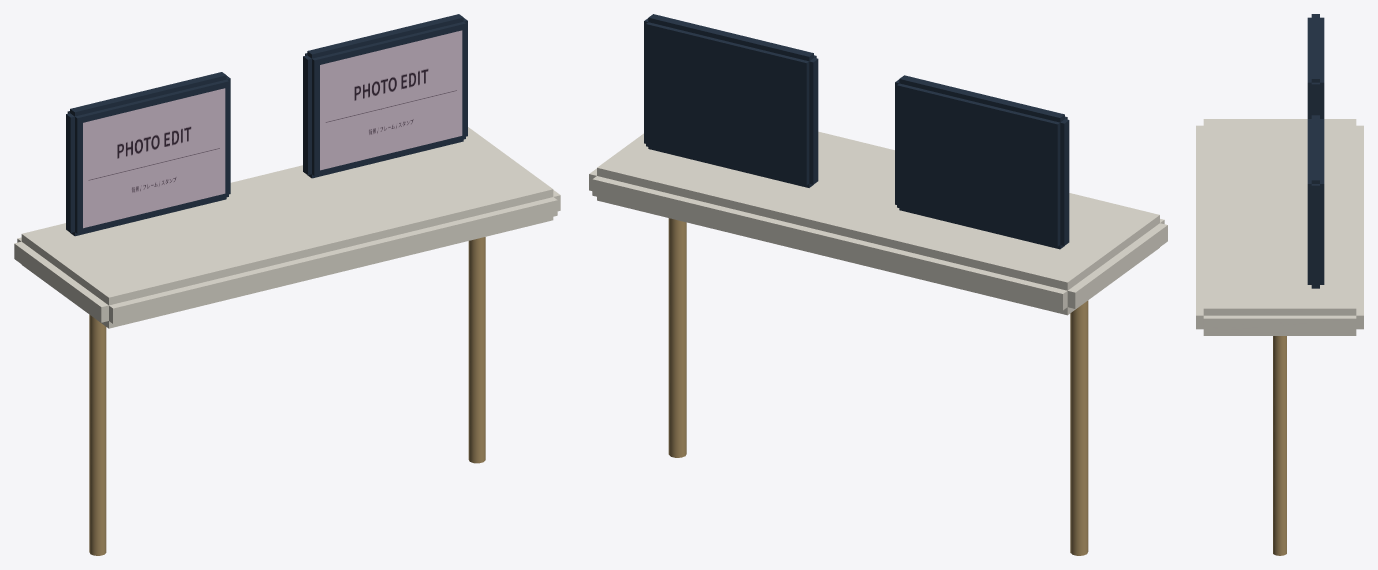
File: fixture_v25_photo_editor.glb
3 renders of one model, left to right at view 1: azimuth 30°, elevation 25°; view 2: azimuth 150°, elevation 25°; view 3: azimuth 270°, elevation 25°, orthographic. The views are drawn at different scales.
Visible parts, largest first — view 1: fixture_v25_photo_editor_V25_satin_ivory, fixture_v25_photo_editor_photo-editor, fixture_v25_photo_editor_photo-editor.001, fixture_v25_photo_editor_V25_arcade_navy, fixture_v25_photo_editor_Satin_champagne; view 2: fixture_v25_photo_editor_V25_arcade_navy, fixture_v25_photo_editor_V25_satin_ivory, fixture_v25_photo_editor_Satin_champagne; view 3: fixture_v25_photo_editor_V25_satin_ivory, fixture_v25_photo_editor_V25_arcade_navy, fixture_v25_photo_editor_Satin_champagne.
Boxes of the visible parts, x1=… form: fixture_v25_photo_editor_V25_satin_ivory: x1=14, y1=127, x2=560, y2=328; fixture_v25_photo_editor_photo-editor: x1=83, y1=88, x2=225, y2=228; fixture_v25_photo_editor_photo-editor.001: x1=320, y1=30, x2=462, y2=170; fixture_v25_photo_editor_V25_arcade_navy: x1=66, y1=14, x2=467, y2=236; fixture_v25_photo_editor_Satin_champagne: x1=89, y1=237, x2=485, y2=555; fixture_v25_photo_editor_V25_arcade_navy: x1=644, y1=14, x2=1069, y2=249; fixture_v25_photo_editor_V25_satin_ivory: x1=589, y1=131, x2=1167, y2=315; fixture_v25_photo_editor_Satin_champagne: x1=668, y1=218, x2=1088, y2=555; fixture_v25_photo_editor_V25_satin_ivory: x1=1196, y1=119, x2=1363, y2=335; fixture_v25_photo_editor_V25_arcade_navy: x1=1307, y1=14, x2=1324, y2=288; fixture_v25_photo_editor_Satin_champagne: x1=1273, y1=336, x2=1286, y2=555.
Size of the model in its own units: 1.55 by 1.38 by 0.56.
Materials: 5 (2 with a texture image).
